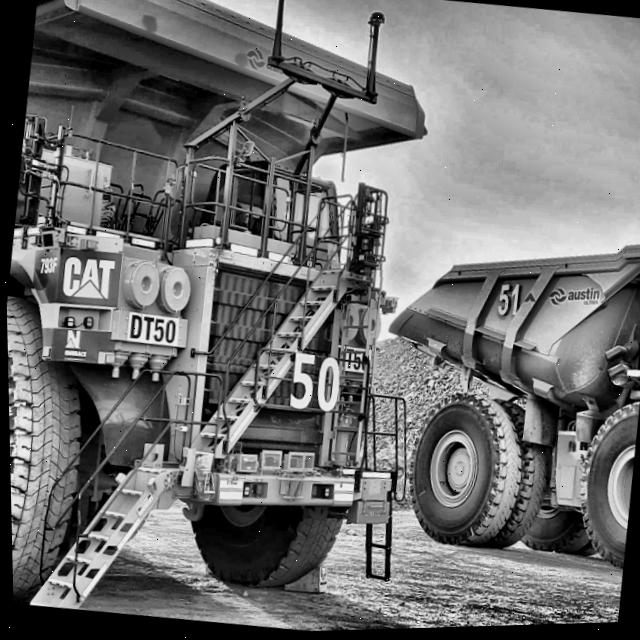dump_truck: (0, 0, 495, 640), (401, 183, 640, 610)
